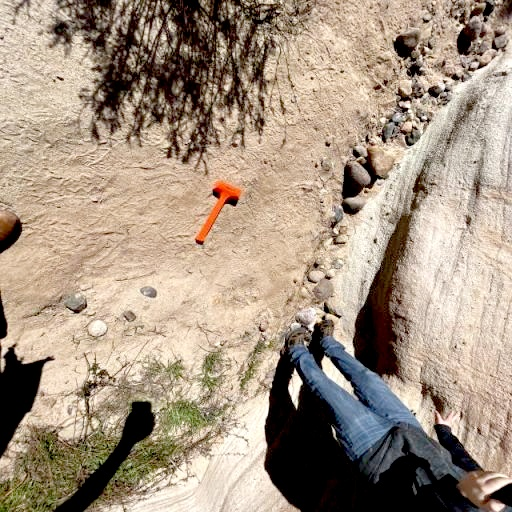mallet: (194, 179, 244, 244)
